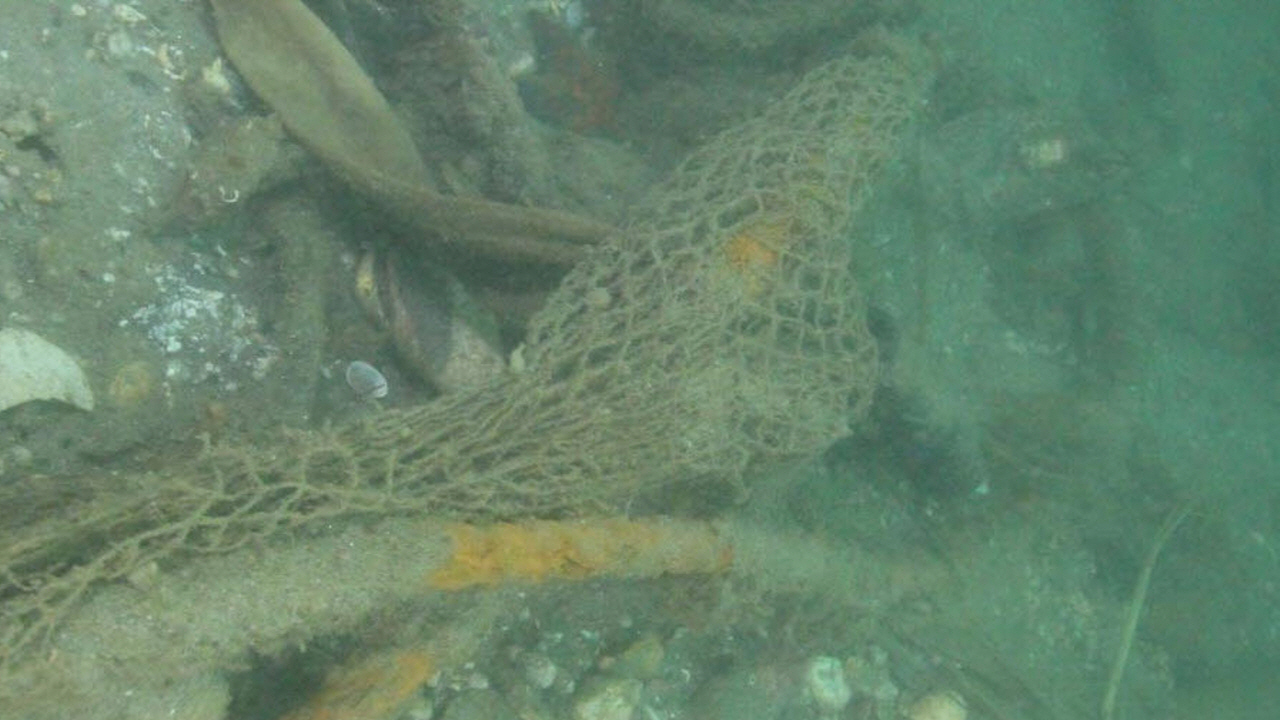fish net: (0, 54, 916, 663)
